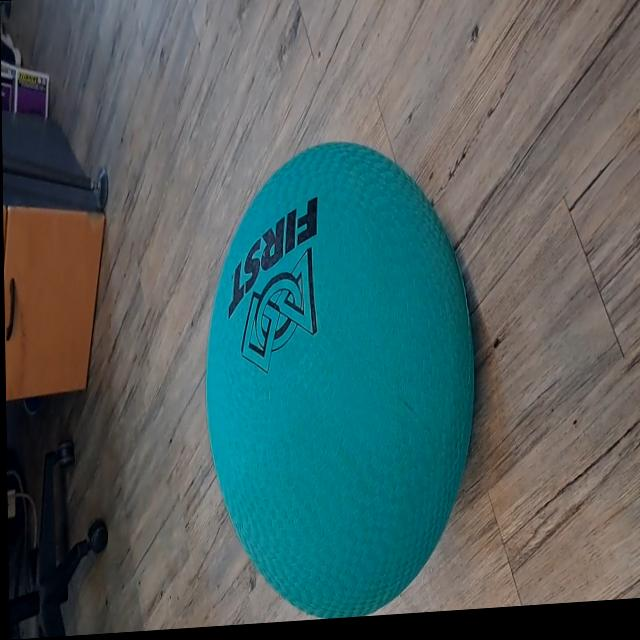ALGAE: (200, 130, 479, 626)
